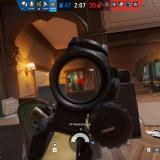Character: (77, 79, 84, 91)
